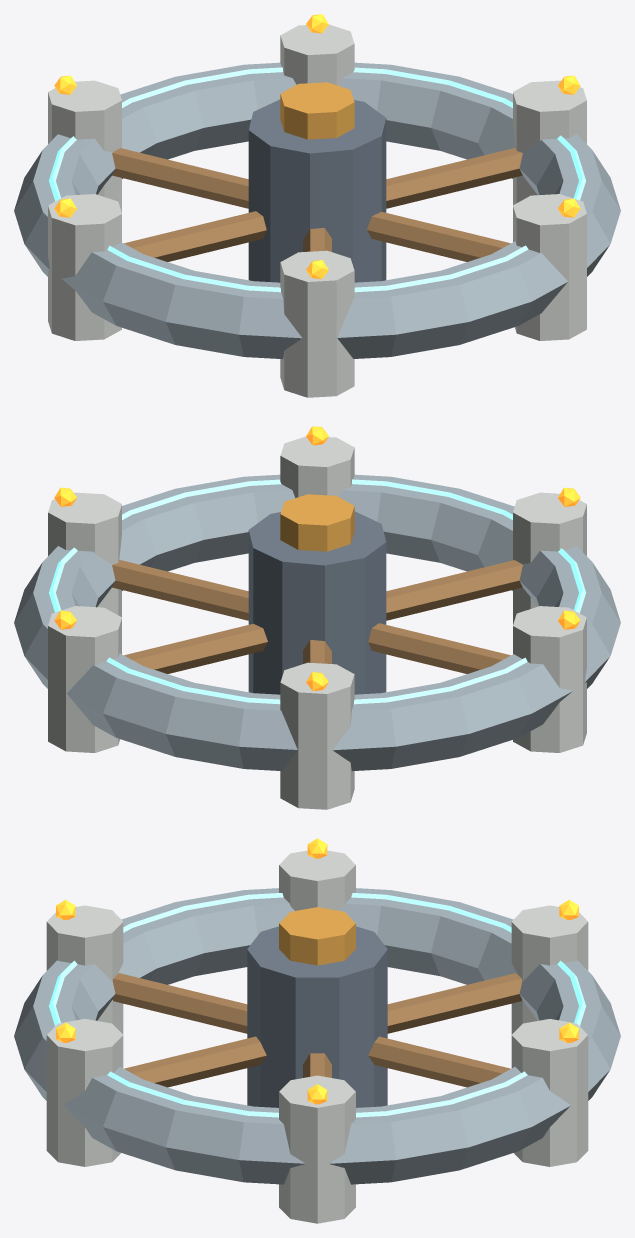
Rendered from ring-station.glb.
The picture shows the model from 3 angles, top to bottom: view 1: azimuth 30°, elevation 25°; view 2: azimuth 150°, elevation 25°; view 3: azimuth 270°, elevation 25°; orthographic projection.
Visible parts, largest first — view 1: ring-station-steel, ring-station-ivory, ring-station-gunmetal, ring-station-bronze, ring-station-cyan, ring-station-amber, ring-station-orange; view 2: ring-station-steel, ring-station-ivory, ring-station-gunmetal, ring-station-bronze, ring-station-cyan, ring-station-amber, ring-station-orange; view 3: ring-station-steel, ring-station-ivory, ring-station-gunmetal, ring-station-bronze, ring-station-cyan, ring-station-amber, ring-station-orange.
Part boxes in pixels (left/top/right/bottom): ring-station-steel: left=14, top=62, right=620, bottom=359; ring-station-ivory: left=48, top=24, right=586, bottom=397; ring-station-gunmetal: left=248, top=99, right=386, bottom=282; ring-station-bronze: left=112, top=148, right=522, bottom=261; ring-station-cyan: left=49, top=67, right=585, bottom=292; ring-station-amber: left=280, top=82, right=354, bottom=139; ring-station-orange: left=54, top=14, right=580, bottom=278; ring-station-steel: left=14, top=474, right=620, bottom=771; ring-station-ivory: left=48, top=436, right=586, bottom=809; ring-station-gunmetal: left=248, top=511, right=386, bottom=694; ring-station-bronze: left=112, top=560, right=522, bottom=673; ring-station-cyan: left=49, top=479, right=585, bottom=704; ring-station-amber: left=280, top=494, right=354, bottom=551; ring-station-orange: left=54, top=426, right=580, bottom=690; ring-station-steel: left=14, top=888, right=620, bottom=1184; ring-station-ivory: left=46, top=850, right=588, bottom=1223; ring-station-gunmetal: left=247, top=926, right=387, bottom=1107; ring-station-bronze: left=112, top=973, right=522, bottom=1087; ring-station-cyan: left=49, top=893, right=585, bottom=1117; ring-station-amber: left=279, top=907, right=355, bottom=965; ring-station-orange: left=56, top=838, right=578, bottom=1104.
Bounding box in the file's own units: 1.93 × 0.6745 × 1.91.
